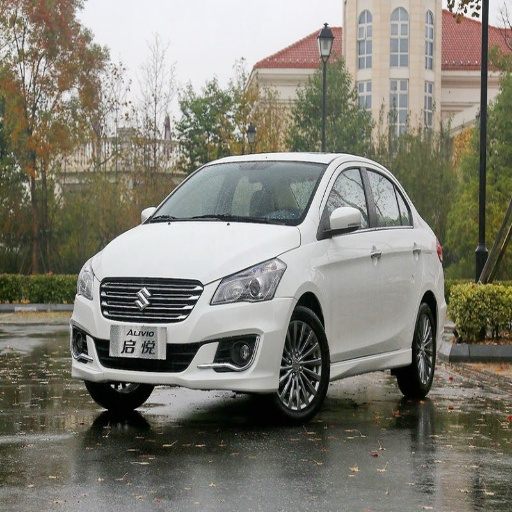front_bumper: (75, 270, 295, 393)
front_glass: (145, 165, 327, 225)
front_left_door: (322, 162, 383, 360)
